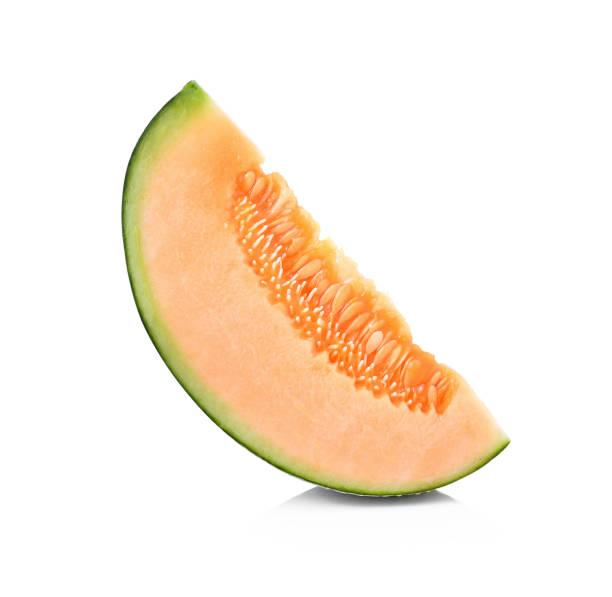Melon Ripe: (119, 80, 510, 498)
